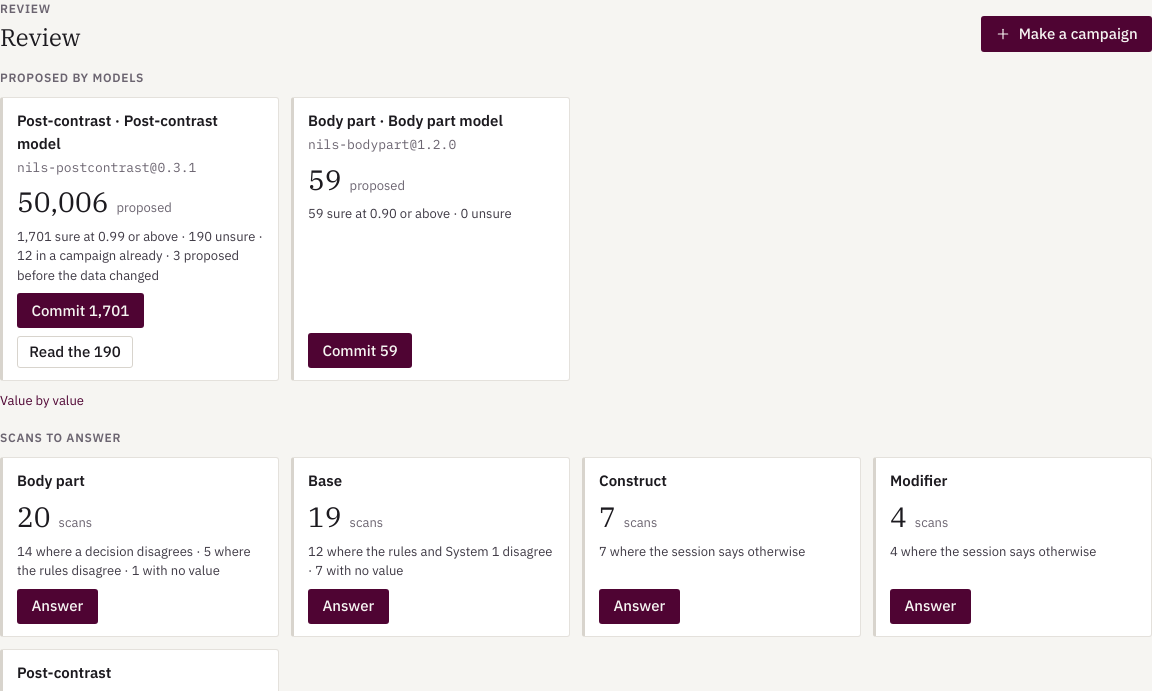
Test: a reviewer's page › drops a finished follow when something else is said: a later line replaces the re-sort's last
The image size is (1152, 691).
Later steps or results of the test are not shown.
Click the button "Commit 1,701" at (80, 311), box [17,293,144,328]
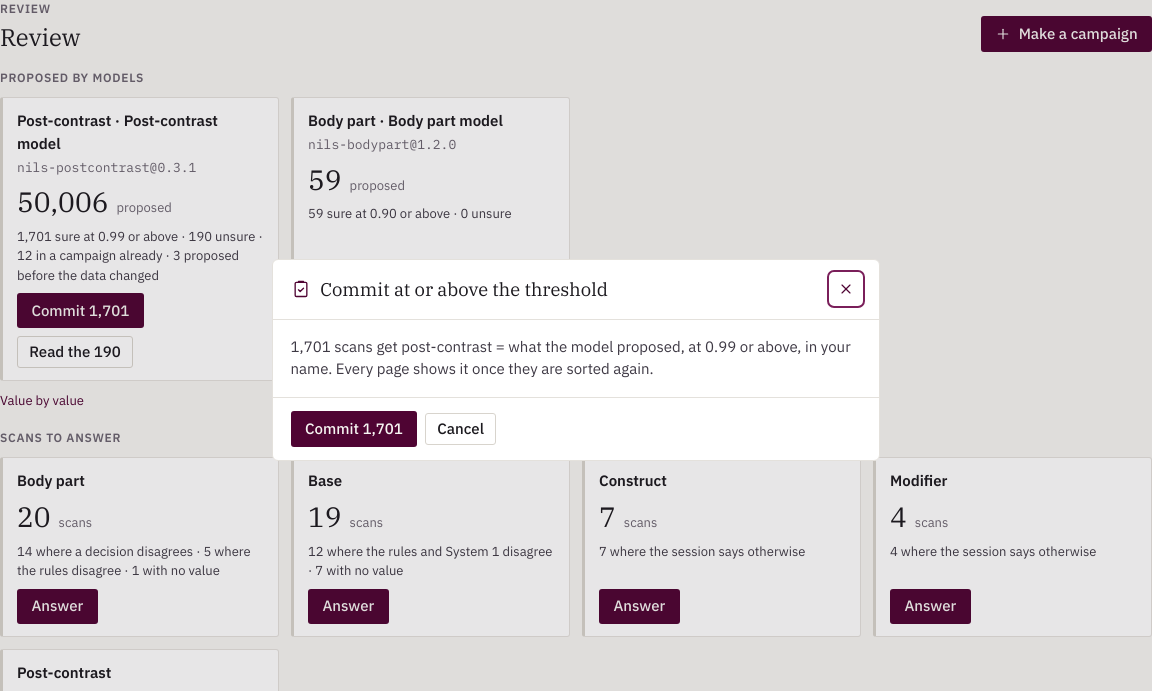
Click the button "Commit 1,701" at (354, 429), box [291,411,417,447]
Wait 3500 ms
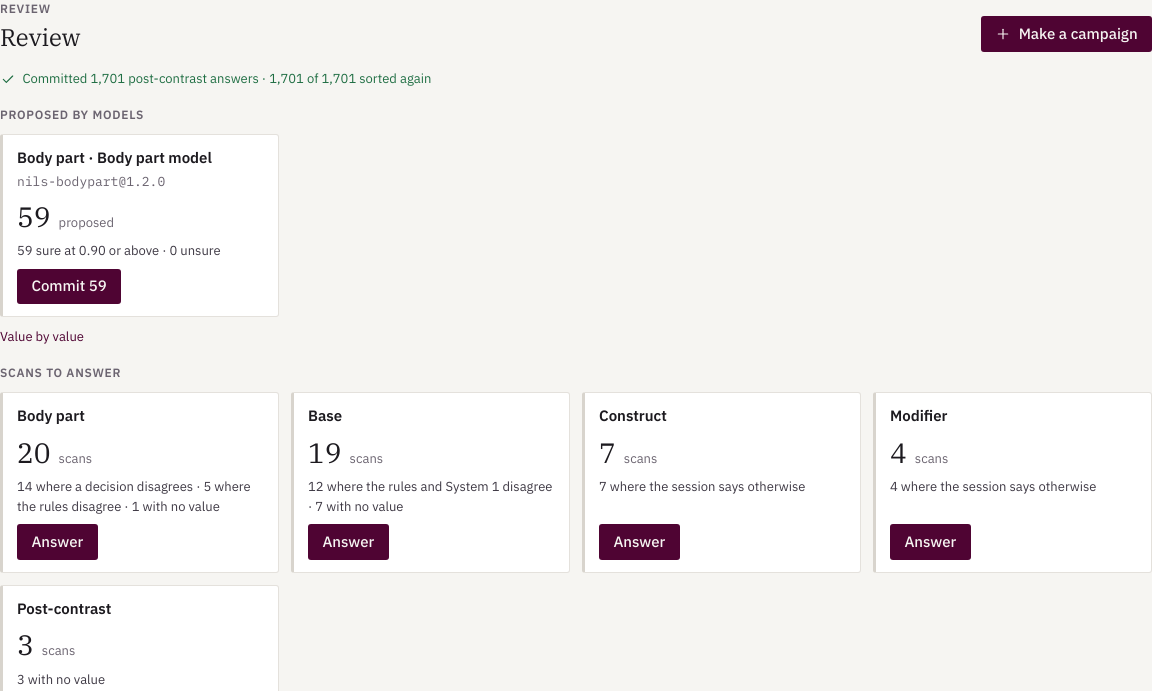
expect the element with class "said" reads "Committed 1,701 post-contrast answers · 1,701 of 1,701 sorted again": met, box [22,70,431,87]
Click the button "Commit 59" at (69, 286), box [17,269,121,304]
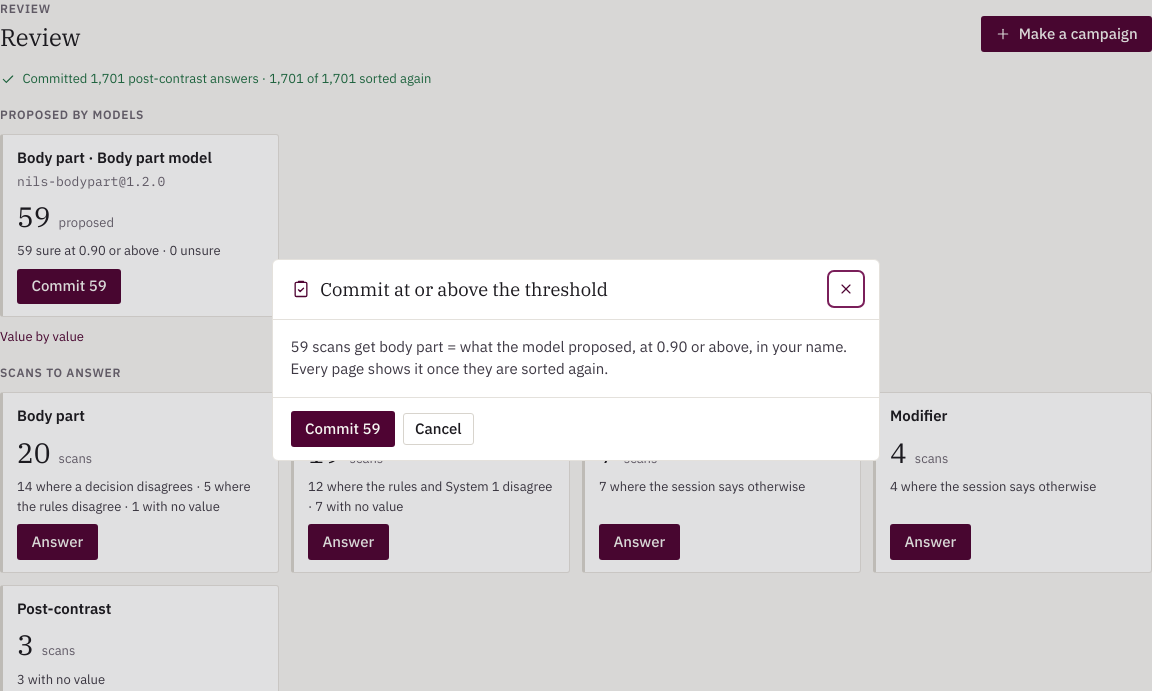
Click the button "Commit 59" at (343, 429), box [291,411,395,447]
Wait 3500 ms
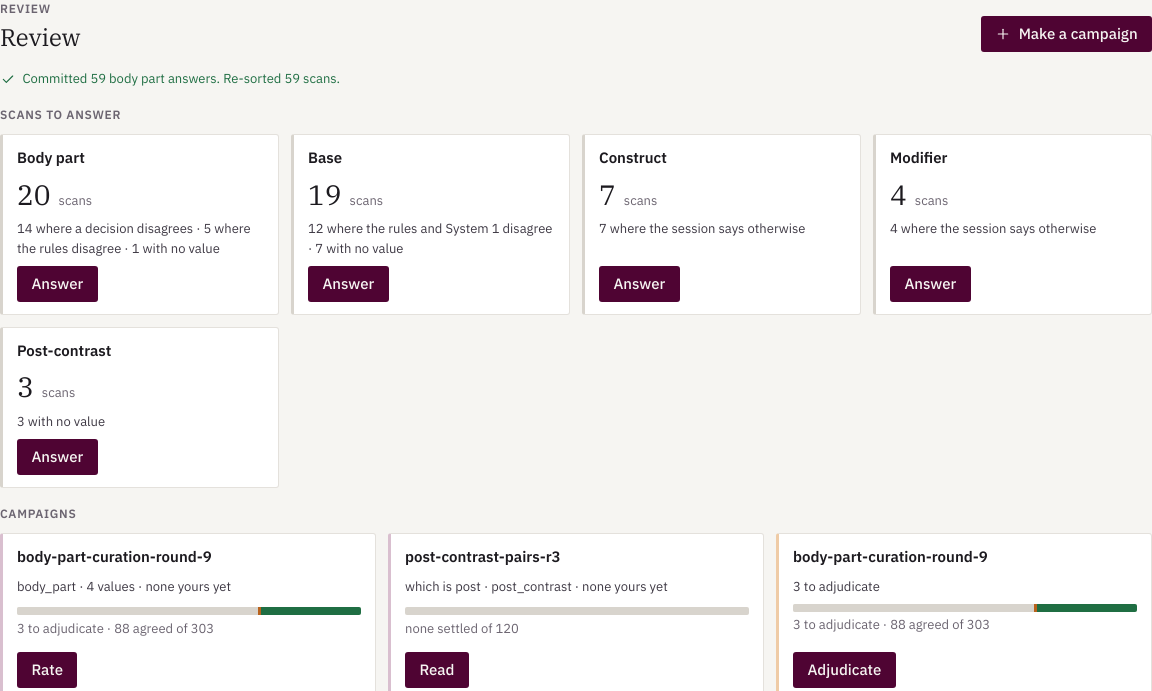
expect the element with class "said" reads "Committed 59 body part answers. Re-sorted 59 scans.": met, box [22,70,340,87]
expect the element with class "rv-card" is gone: met
